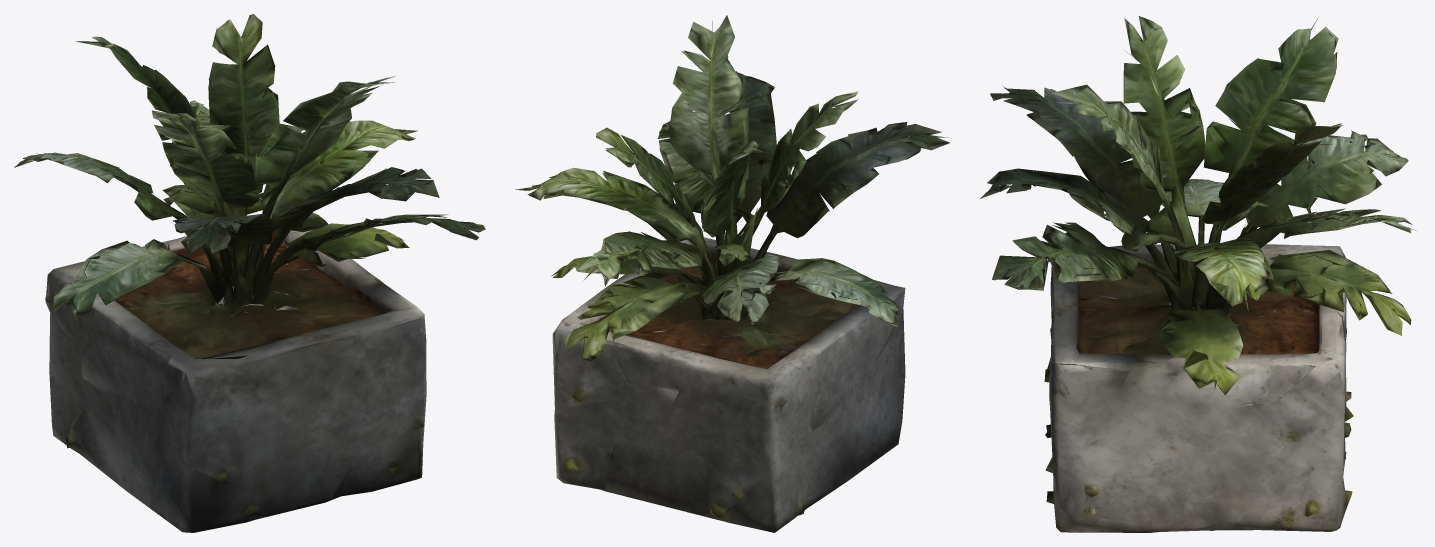
Rendered from planter_concrete_LOD1.fbx.
3 views of the same model, side by side, from view 1: azimuth 30°, elevation 25°; view 2: azimuth 150°, elevation 25°; view 3: azimuth 270°, elevation 25° (orthographic). The views are drawn at different scales.
Visible parts, largest first — view 1: planter_concrete.001; view 2: planter_concrete.001; view 3: planter_concrete.001.
Part boxes in pixels (box(x1,y1,x2,y2)): planter_concrete.001: box(14, 14, 485, 532); planter_concrete.001: box(515, 15, 949, 532); planter_concrete.001: box(980, 16, 1415, 532).
Bounding box in the file's own units: 1.19 × 1.2 × 1.14.
1 material, 1 textured.
